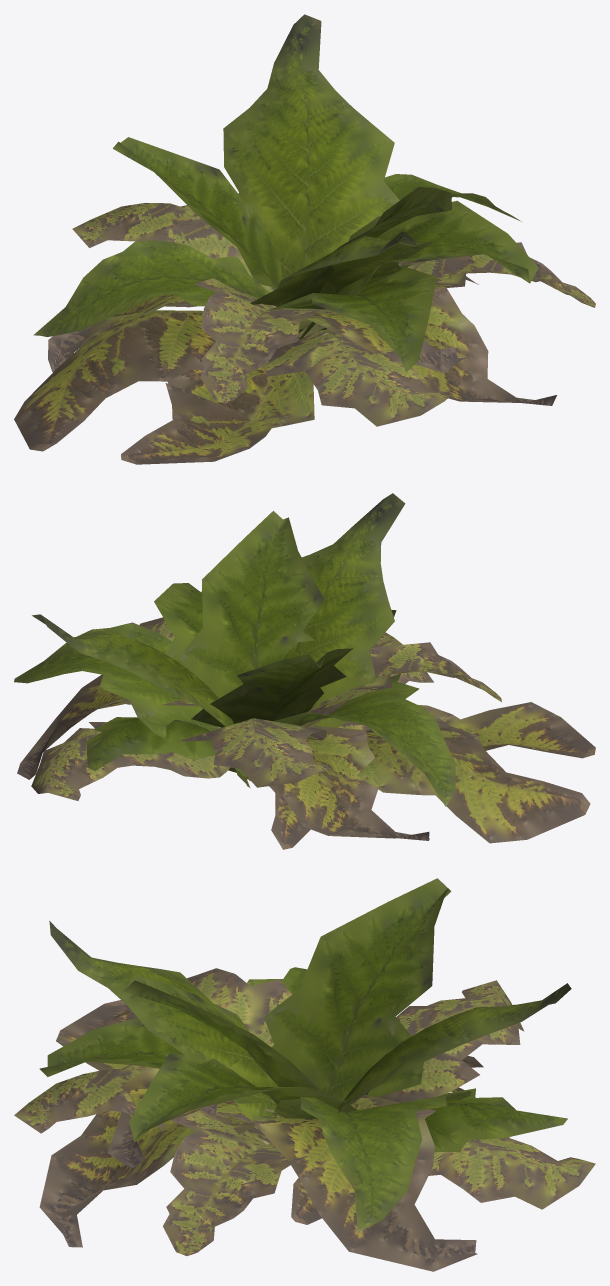
The model's file is pl9_var2_LOD0.fbx.
3 views of the same model, one above another, from view 1: azimuth 30°, elevation 25°; view 2: azimuth 150°, elevation 25°; view 3: azimuth 270°, elevation 25° (orthographic). The views are drawn at different scales.
Visible parts, largest first — view 1: _1ec9_Var2_LOD0; view 2: _1ec9_Var2_LOD0; view 3: _1ec9_Var2_LOD0.
Boxes of the visible parts, bbox=[...] form: _1ec9_Var2_LOD0: bbox=[14, 14, 595, 464]; _1ec9_Var2_LOD0: bbox=[14, 493, 595, 849]; _1ec9_Var2_LOD0: bbox=[14, 878, 595, 1271].
Size of the model in its own units: 497 by 202 by 415.
